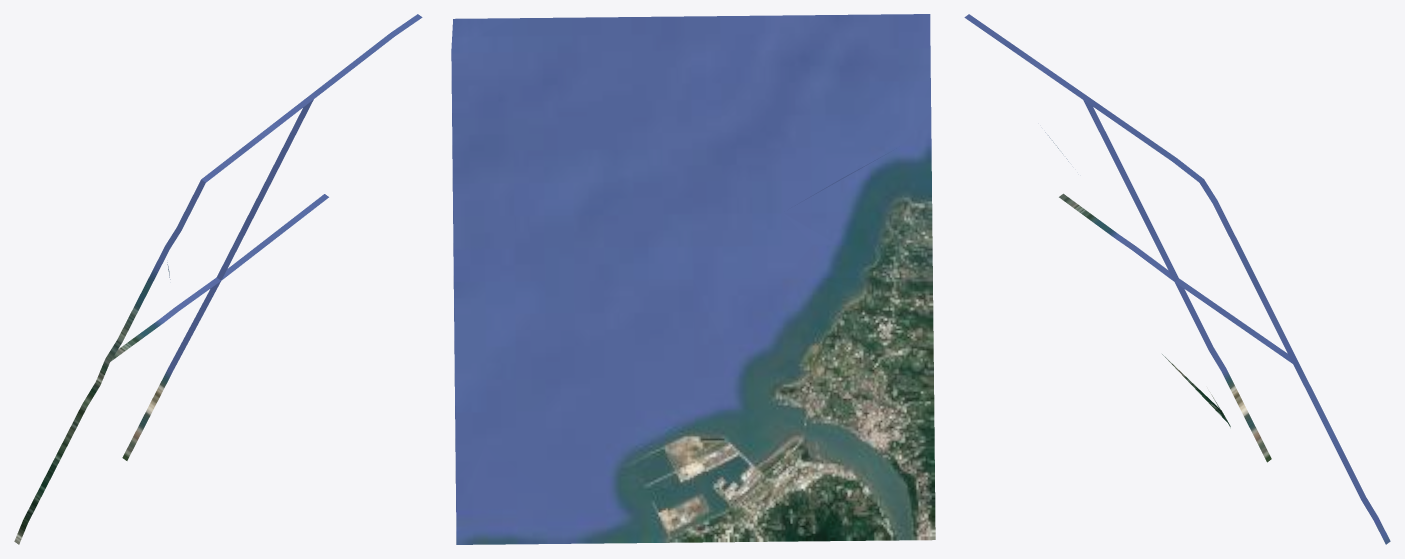
3 views of the same model, side by side, from view 1: azimuth 30°, elevation 25°; view 2: azimuth 150°, elevation 25°; view 3: azimuth 270°, elevation 25° (orthographic). The views are drawn at different scales.
Size of the model in its own units: 19711 by 17803 by 16674.
1 material, 1 textured.
